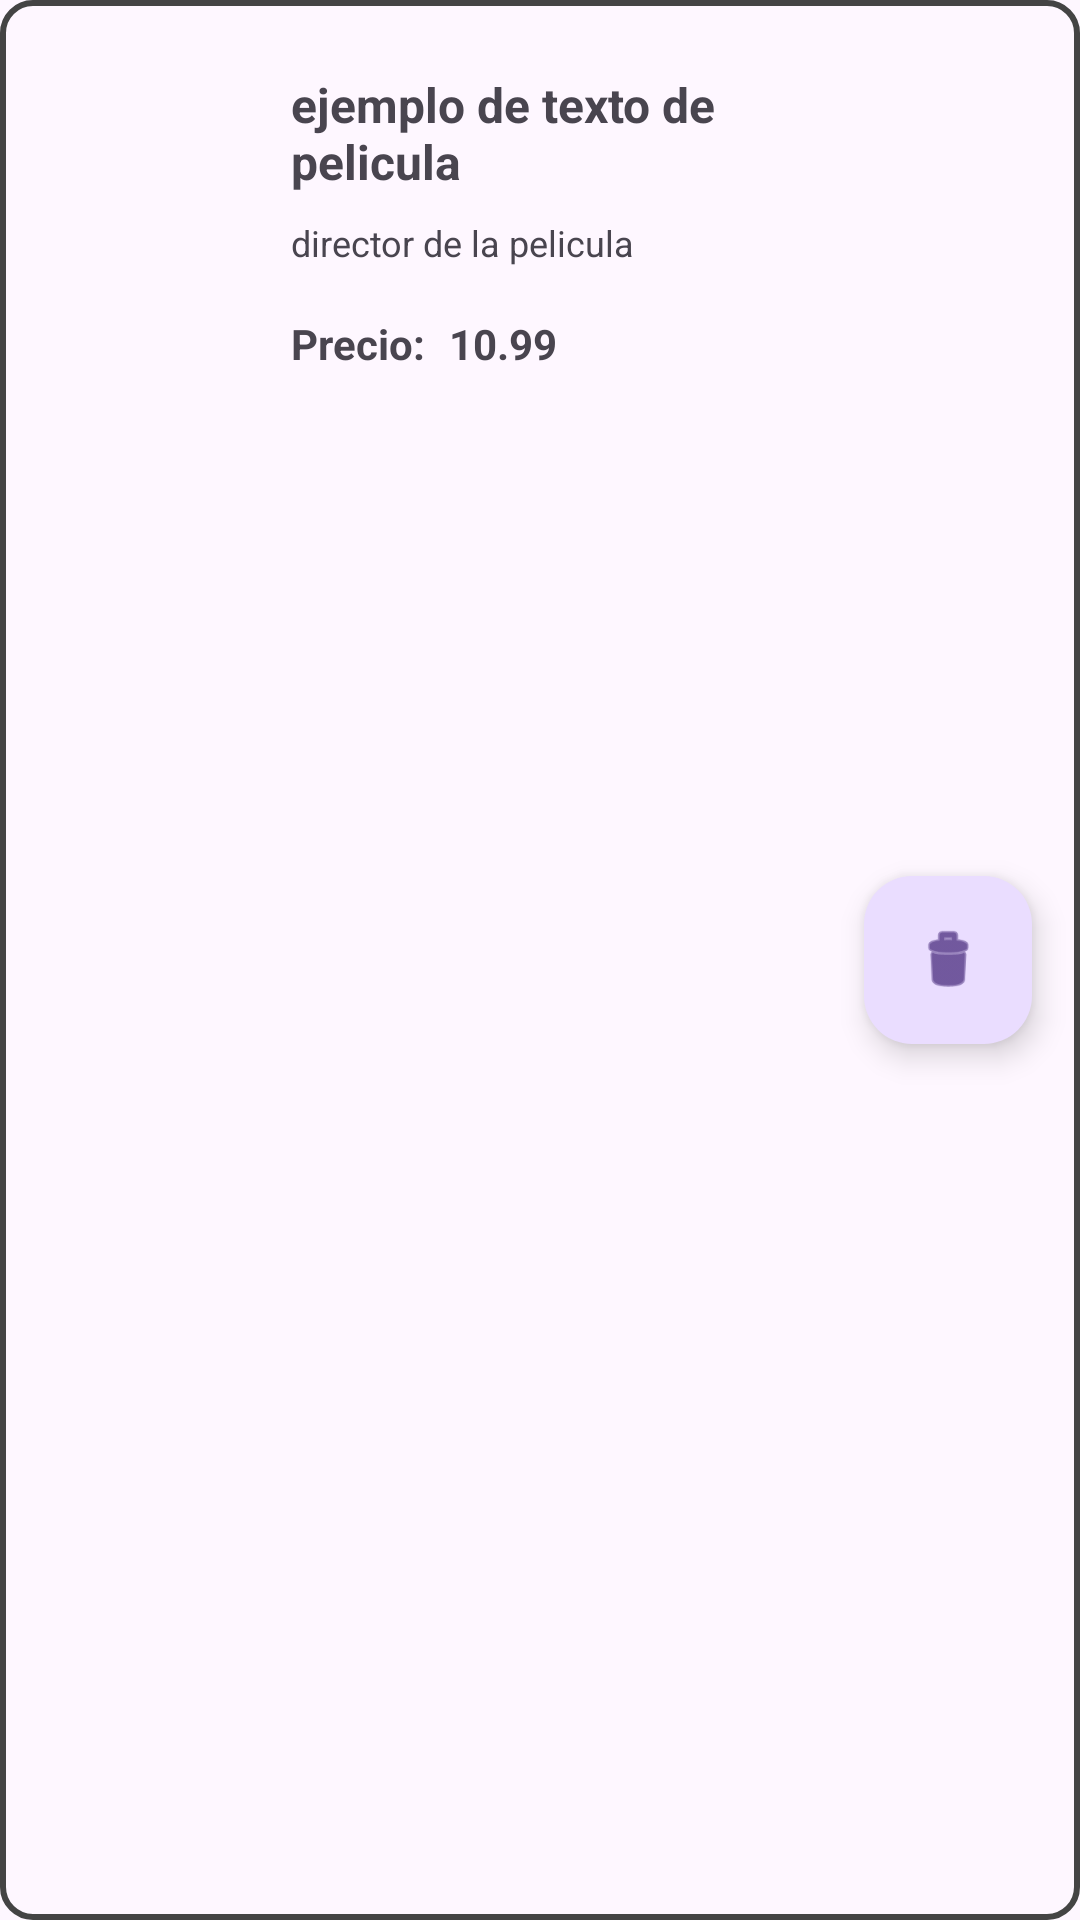

Locate icon controls on the screen. Image size 1080×1920, boxes as (x1, y1, x2, y2).
delete: (864, 876, 1032, 1044)
